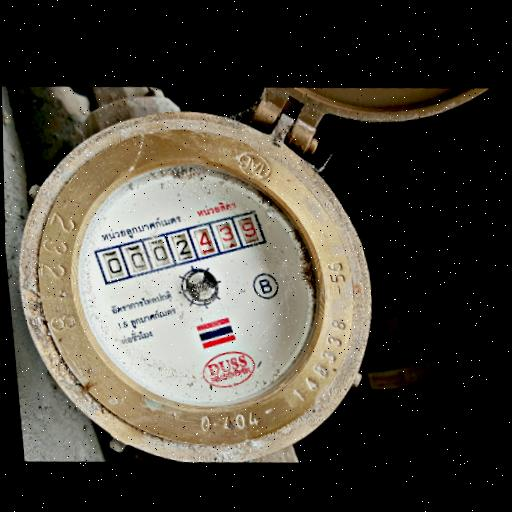0: (102, 249, 124, 280), (148, 237, 170, 268), (126, 243, 147, 273)
2: (172, 232, 194, 263)
3: (216, 221, 237, 251)
4: (193, 226, 215, 257)
9: (236, 216, 259, 246)
border_water_meter_number: (89, 196, 271, 299)
